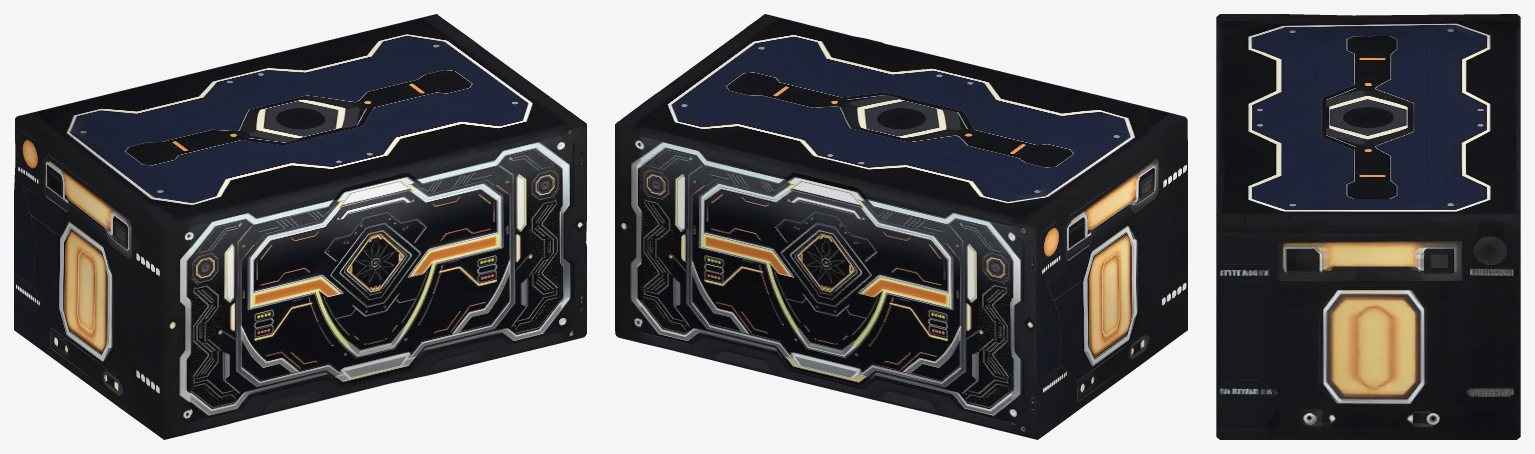
Rendered from LampBox.glb.
3 views of the same model, side by side, from view 1: azimuth 30°, elevation 25°; view 2: azimuth 150°, elevation 25°; view 3: azimuth 270°, elevation 25° (orthographic).
Parts seen in each view (by area): view 1: Mesh_0; view 2: Mesh_0; view 3: Mesh_0.
Part boxes in pixels (box(x1,y1,x2,y2)): Mesh_0: box(14, 14, 586, 439); Mesh_0: box(615, 14, 1187, 439); Mesh_0: box(1216, 14, 1520, 439).
Size of the model in its own units: 1.91 by 0.9277 by 1.17.
Materials: 1 (1 with a texture image).
